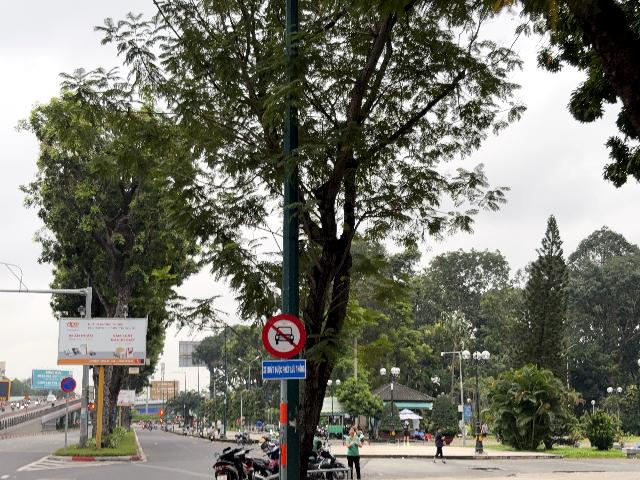cam-o-to: (262, 313, 307, 358)
